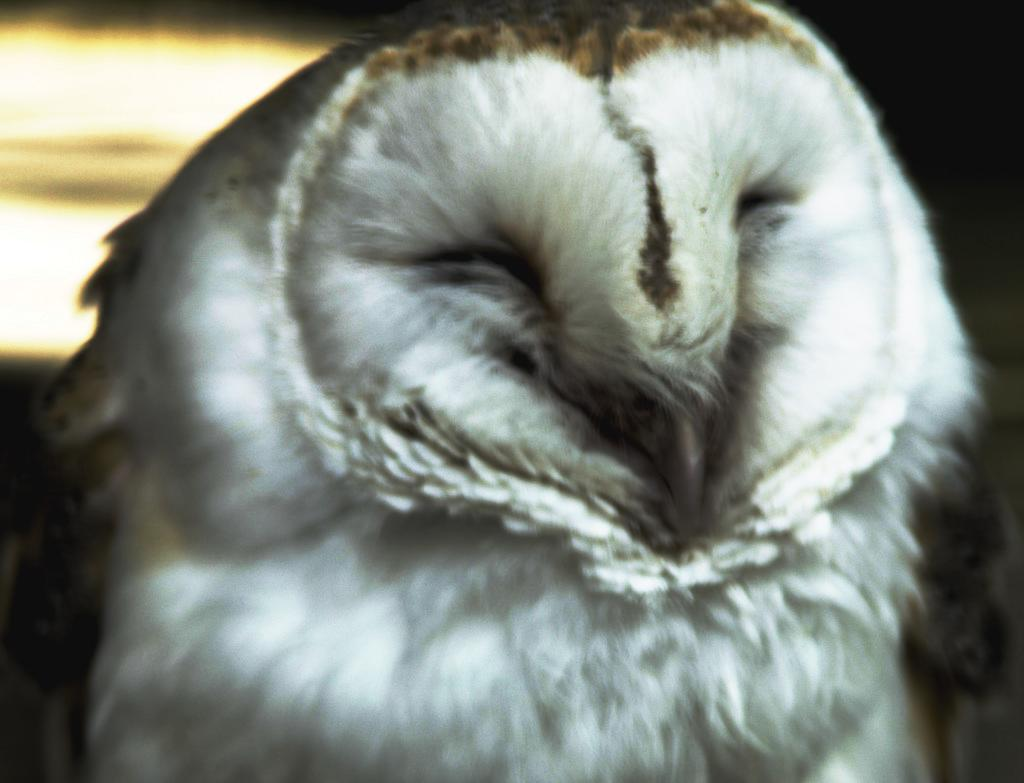Owl: (79, 40, 975, 733)
